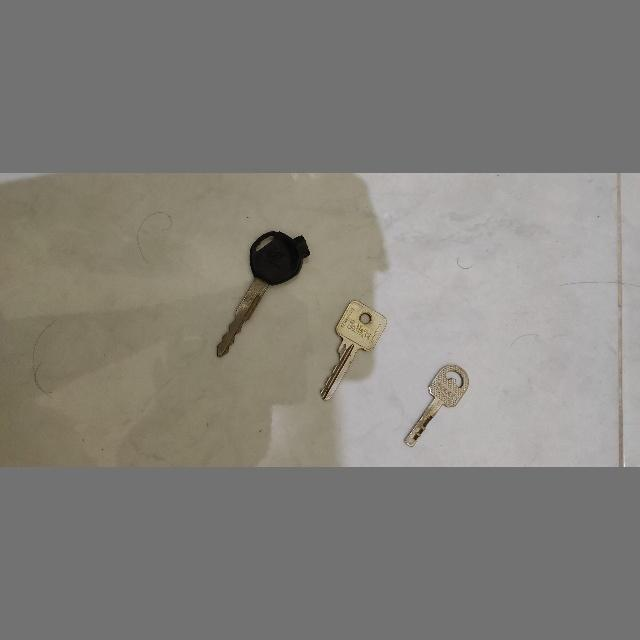Keys: (214, 228, 314, 360), (318, 298, 390, 402), (403, 364, 473, 450)
